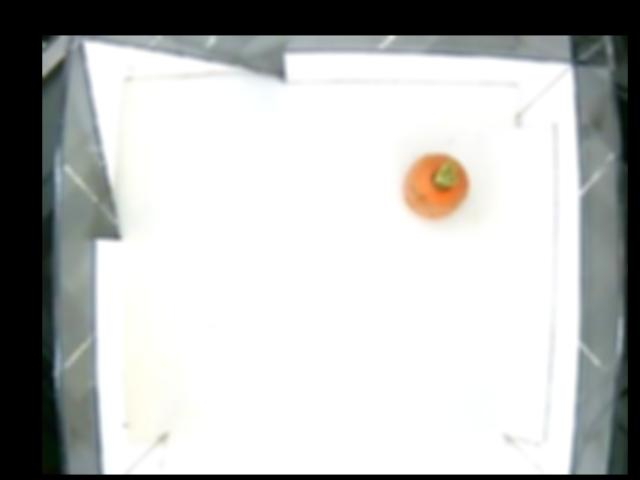Carrot: (402, 152, 468, 218)
